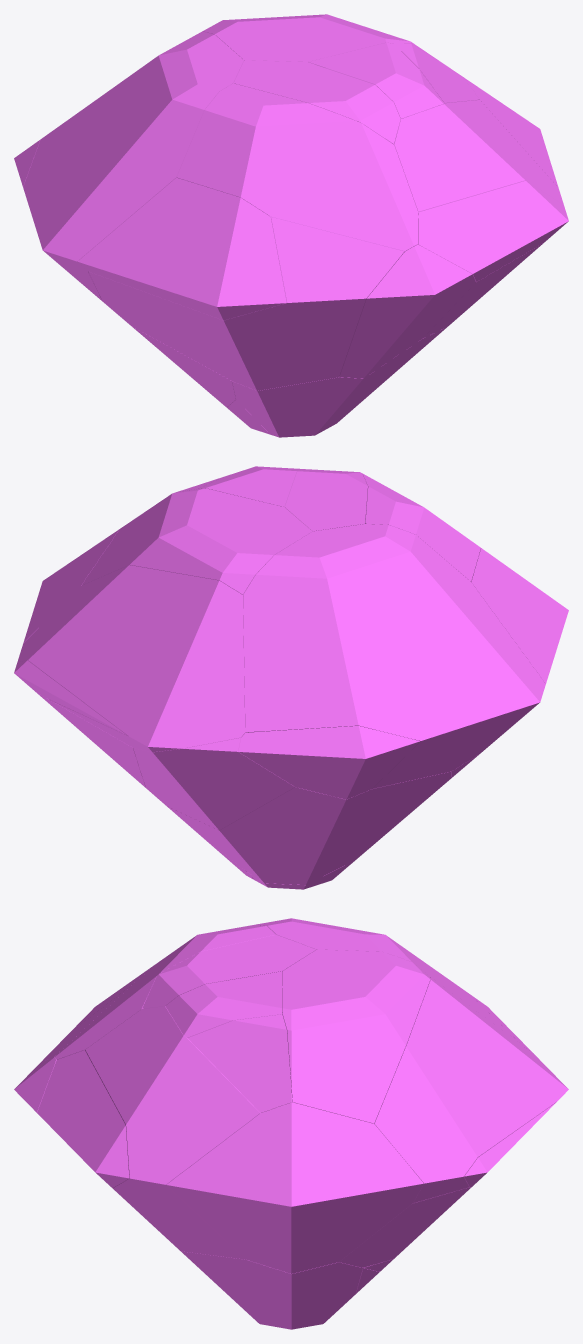
Rendered from Level-1-BreakableDiamond.fbx.
3 views of the same model, one above another, from view 1: azimuth 30°, elevation 25°; view 2: azimuth 150°, elevation 25°; view 3: azimuth 270°, elevation 25° (orthographic). The views are drawn at different scales.
Visible parts, largest first — view 1: Circle_cell.021, Circle_cell.015, Circle_cell.009, Circle_cell.001, Circle_cell.002, Circle_cell.023, Circle_cell.010, Circle_cell.004, Circle_cell.025, Circle_cell.016, Circle_cell.024, Circle_cell.011 (+2 smaller); view 2: Circle_cell.021, Circle_cell.019, Circle_cell.020, Circle_cell.025, Circle_cell.008, Circle_cell.007, Circle_cell.001, Circle_cell.015, Circle_cell.016, Circle_cell.011, Circle_cell.024, Circle_cell.013 (+2 smaller); view 3: Circle_cell.011, Circle_cell.019, Circle_cell.002, Circle_cell.025, Circle_cell.004, Circle_cell.023, Circle_cell.018, Circle_cell.016, Circle_cell.024, Circle_cell.015, Circle_cell.021, Circle_cell.012 (+3 smaller).
Boxes of the visible parts, bbox=[...] form: Circle_cell.021: bbox=[23, 31, 243, 301]; Circle_cell.015: bbox=[176, 83, 418, 250]; Circle_cell.009: bbox=[88, 216, 412, 390]; Circle_cell.001: bbox=[77, 177, 286, 320]; Circle_cell.002: bbox=[394, 100, 563, 338]; Circle_cell.023: bbox=[417, 181, 568, 281]; Circle_cell.010: bbox=[339, 244, 475, 378]; Circle_cell.004: bbox=[232, 327, 446, 437]; Circle_cell.025: bbox=[203, 14, 447, 66]; Circle_cell.016: bbox=[234, 60, 400, 144]; Circle_cell.024: bbox=[308, 42, 444, 118]; Circle_cell.011: bbox=[463, 77, 558, 187]; Circle_cell.021: bbox=[243, 524, 545, 788]; Circle_cell.019: bbox=[17, 565, 245, 752]; Circle_cell.020: bbox=[167, 771, 451, 884]; Circle_cell.025: bbox=[81, 488, 312, 595]; Circle_cell.008: bbox=[238, 726, 420, 799]; Circle_cell.007: bbox=[133, 737, 294, 830]; Circle_cell.001: bbox=[471, 548, 568, 683]; Circle_cell.015: bbox=[362, 473, 480, 581]; Circle_cell.016: bbox=[285, 469, 367, 531]; Circle_cell.011: bbox=[23, 529, 119, 642]; Circle_cell.024: bbox=[199, 466, 304, 507]; Circle_cell.013: bbox=[14, 660, 126, 735]; Circle_cell.011: bbox=[166, 1102, 423, 1273]; Circle_cell.019: bbox=[374, 977, 568, 1203]; Circle_cell.002: bbox=[85, 1006, 260, 1259]; Circle_cell.025: bbox=[282, 949, 430, 1123]; Circle_cell.004: bbox=[181, 1251, 362, 1329]; Circle_cell.023: bbox=[37, 1050, 129, 1187]; Circle_cell.018: bbox=[188, 1014, 292, 1112]; Circle_cell.016: bbox=[142, 934, 316, 1008]; Circle_cell.024: bbox=[165, 971, 282, 1037]; Circle_cell.015: bbox=[54, 924, 275, 1059]; Circle_cell.021: bbox=[256, 918, 518, 1041]; Circle_cell.012: bbox=[339, 1187, 471, 1267].
Size of the model in its own units: 376 by 258 by 376.
1 material, 1 textured.
